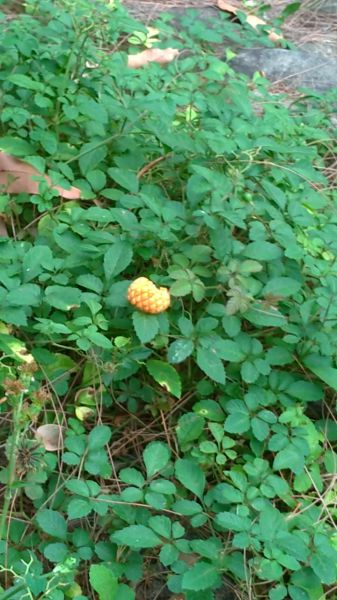eggs: (121, 273, 175, 319)
